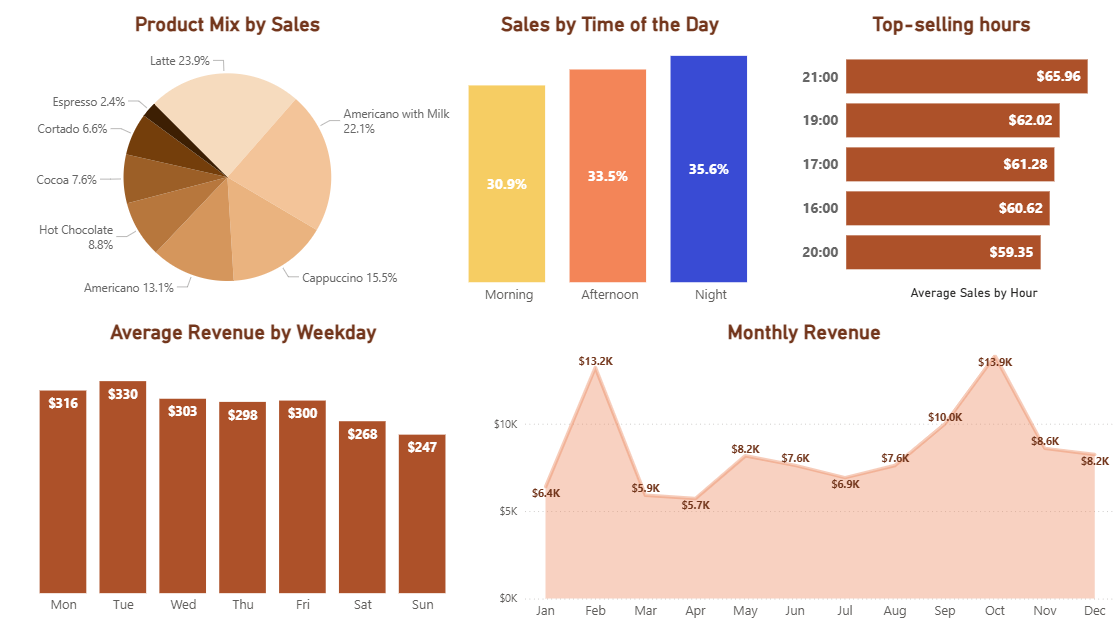

What the dashboard file says about the page in this screenshot:
{"tool":"powerbi","page":{"name":"Coffee Sales Dashboard","canvas":[1280,720],"ordinal":0},"visuals":[{"type":"columnChart","title":"Sales by Time of the Day","fields":{"Category":["sales_by_time_of_day.Period"],"Y":["Divide(Sum(sales_by_time_of_day.Average_Revenue), ScopedEval(Sum(sales_by_time_of_day.Average_Revenue), []))"]},"box":[486.4,16.2,425.4,343.3],"z":0},{"type":"areaChart","title":"Monthly Revenue","fields":{"Category":["sales_by_month.Month_name"],"Y":["Sum(sales_by_month.Monthly_Revenue)"]},"box":[559.8,368.2,720.3,352],"z":2000},{"type":"clusteredBarChart","title":"Top-selling hours","fields":{"Category":["sales_by_hour_ranked.Hour"],"Y":["Sum(sales_by_hour_ranked.Average Sales)"]},"box":[911.8,16.2,354.5,334.6],"z":3000},{"type":"columnChart","title":"Average Revenue by Weekday","fields":{"Category":["sales_by_weekday.Weekday"],"Y":["Sum(sales_by_weekday.Average_Revenue)"]},"box":[14.9,368.2,529.9,345.8],"z":4000},{"type":"pieChart","title":"Product Mix by Sales ","fields":{"Category":["sales_by_coffe_type.Coffee"],"Y":["Sum(sales_by_coffe_type.Annual Sales)"]},"box":[0,16.2,522.5,352],"z":6500}]}

Visuals, with their boxes in screenshot pixels (x1, y1, x2, y2), scaled from the page's 1280x720 canvas onto the 1117x627 screenshot:
"Sales by Time of the Day" columnChart: detection(424, 14, 796, 313)
"Monthly Revenue" areaChart: detection(489, 321, 1116, 626)
"Top-selling hours" clusteredBarChart: detection(796, 14, 1105, 305)
"Average Revenue by Weekday" columnChart: detection(13, 321, 475, 622)
"Product Mix by Sales " pieChart: detection(0, 14, 456, 321)
